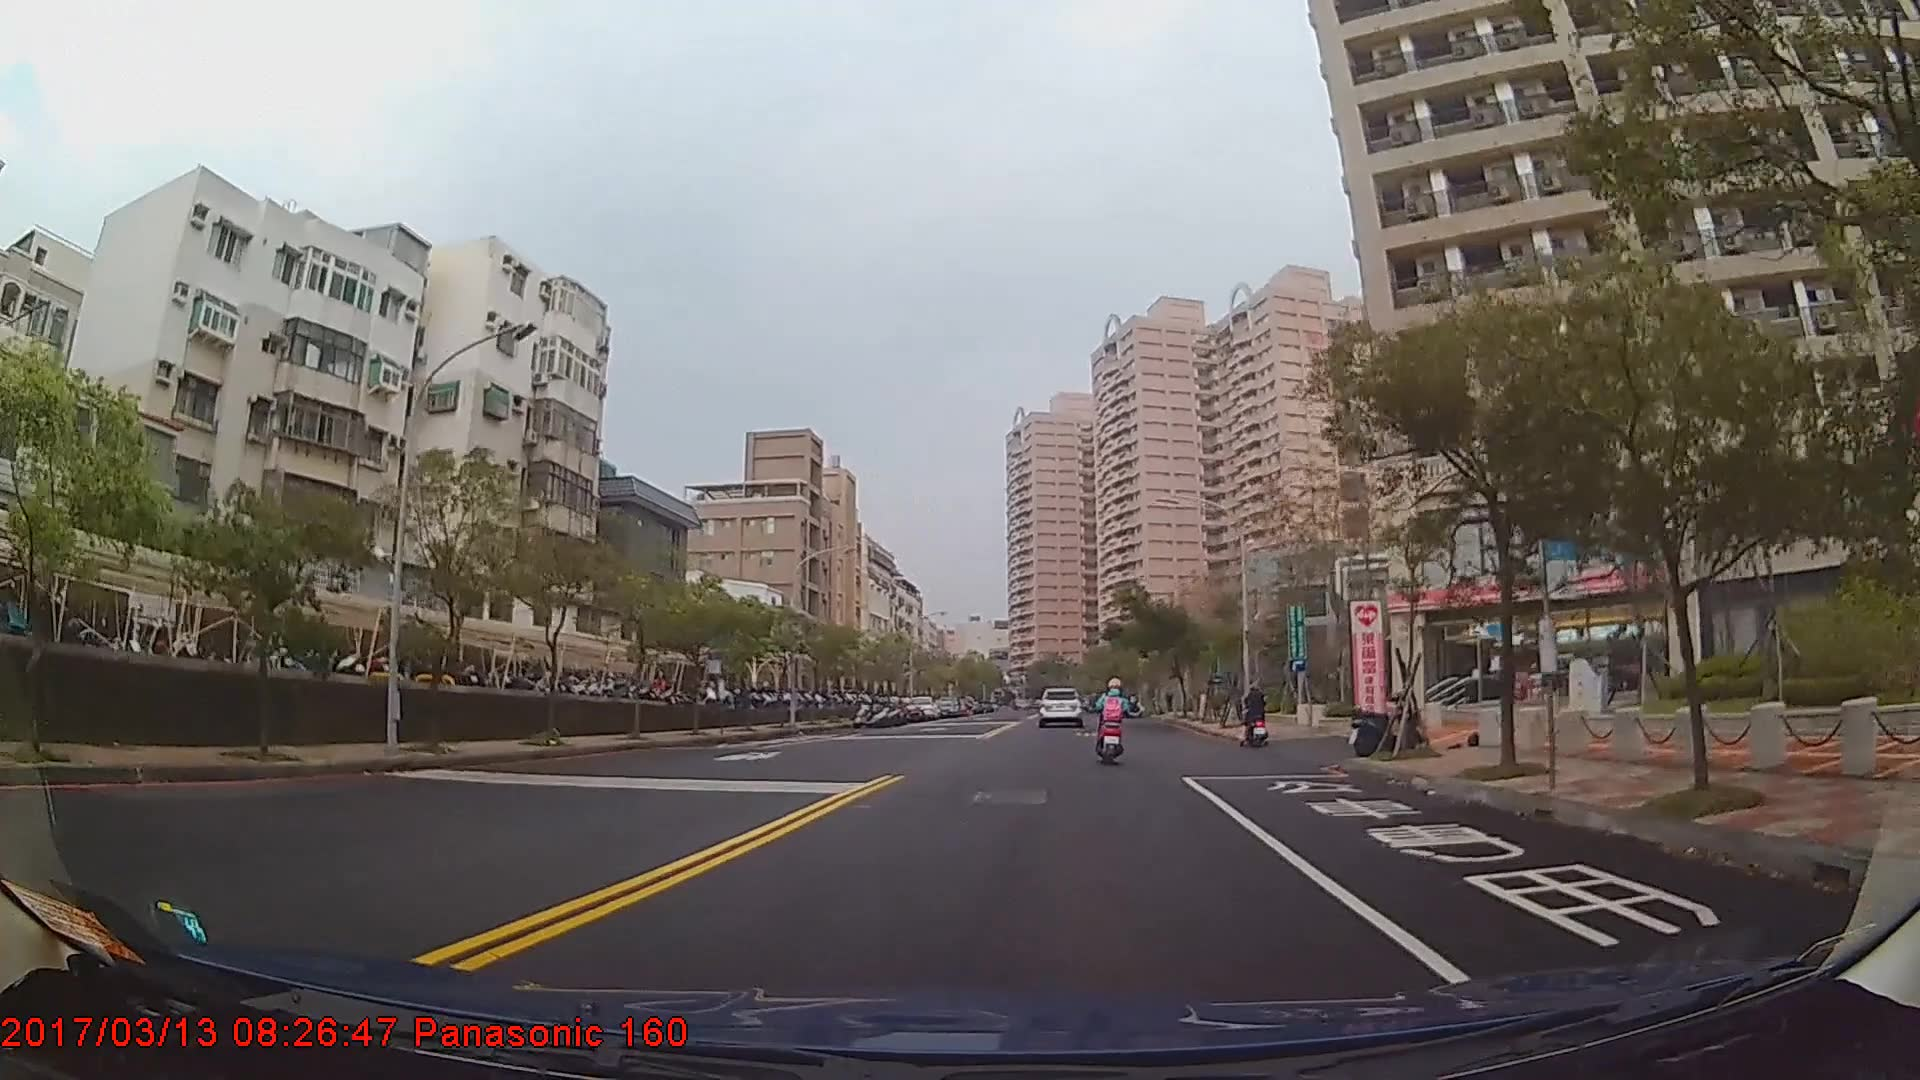rider: (1091, 678, 1132, 762), (1239, 682, 1269, 749)
vehicle: (1033, 686, 1084, 728), (902, 696, 937, 722)
